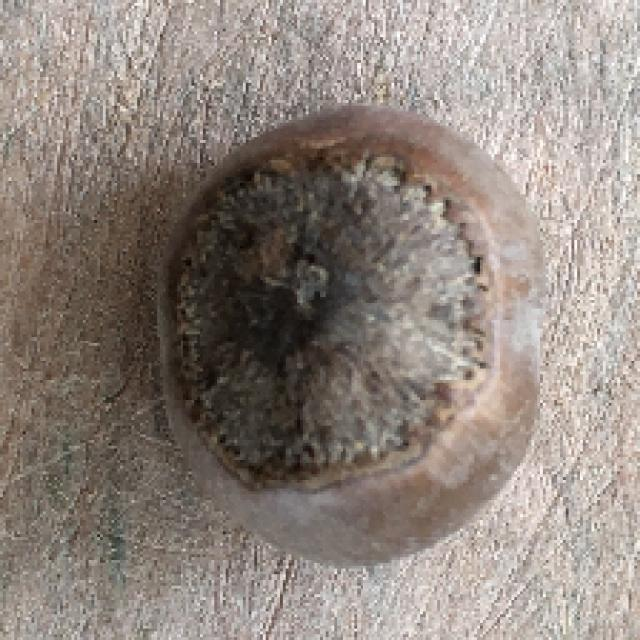damagedHazelnut: (149, 97, 551, 566)
